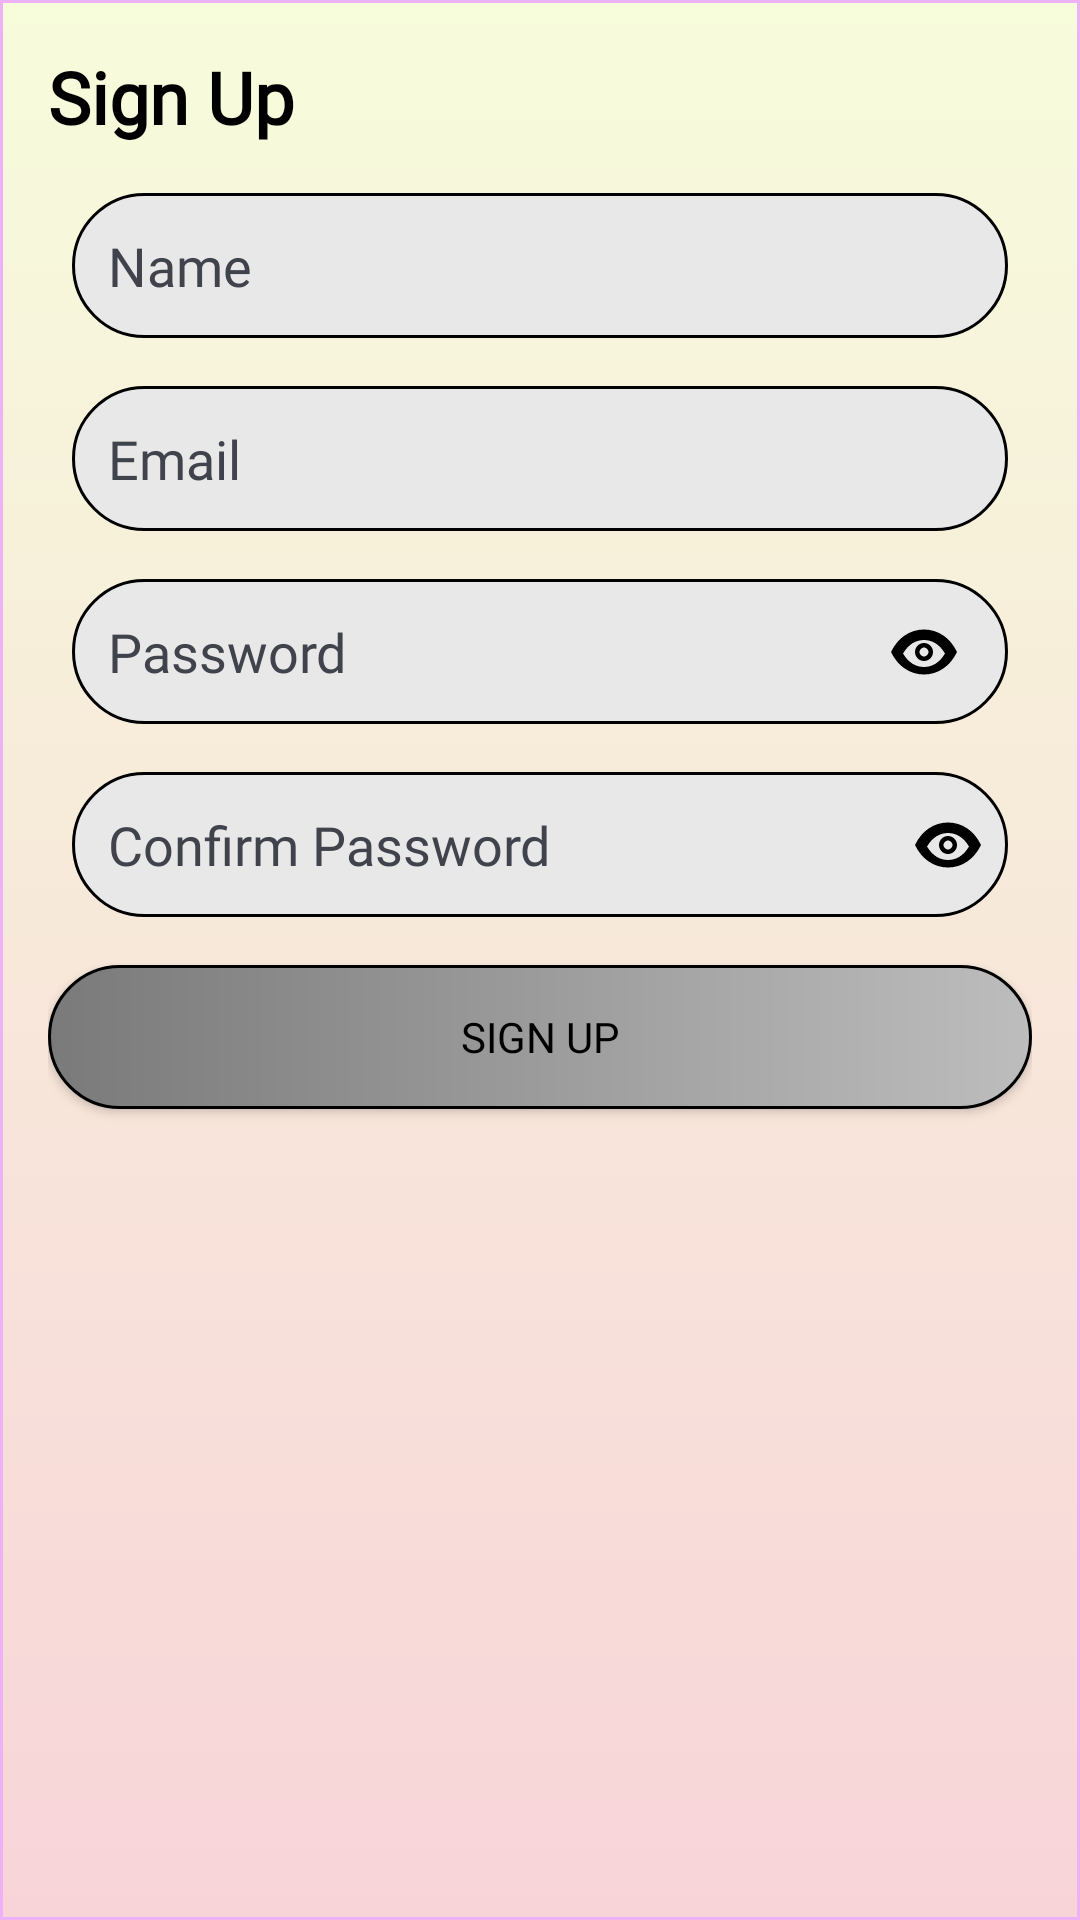

Named icons in this screenshot (1080×1920) and their bounding boxes, (x1, y1, x2, y2):
eye: (891, 629, 957, 675), (915, 822, 981, 868)
